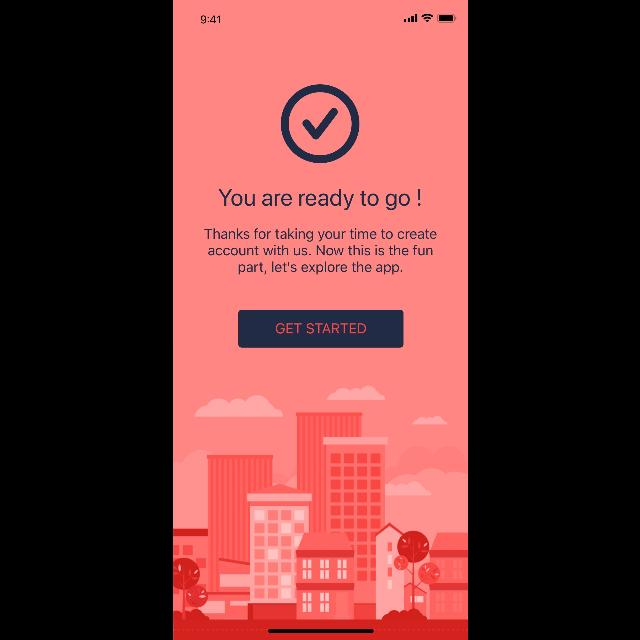backgroundimage: (172, 1, 468, 640)
icon: (280, 84, 358, 164)
text: (203, 228, 437, 274), (217, 188, 421, 212)
textbutton: (237, 310, 403, 348)
uppertaskbar: (199, 13, 456, 24)
